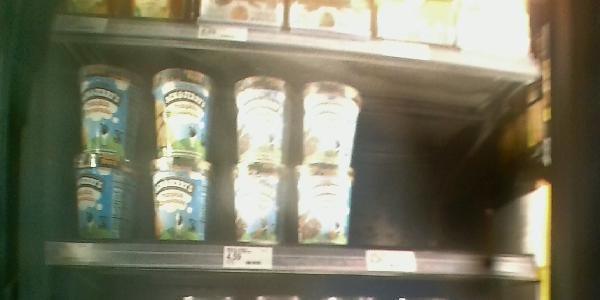icecream1: (71, 60, 143, 155), (153, 59, 220, 156), (231, 70, 296, 168), (69, 155, 144, 238), (301, 80, 371, 168), (151, 157, 219, 243), (230, 169, 292, 250), (299, 168, 358, 245)
